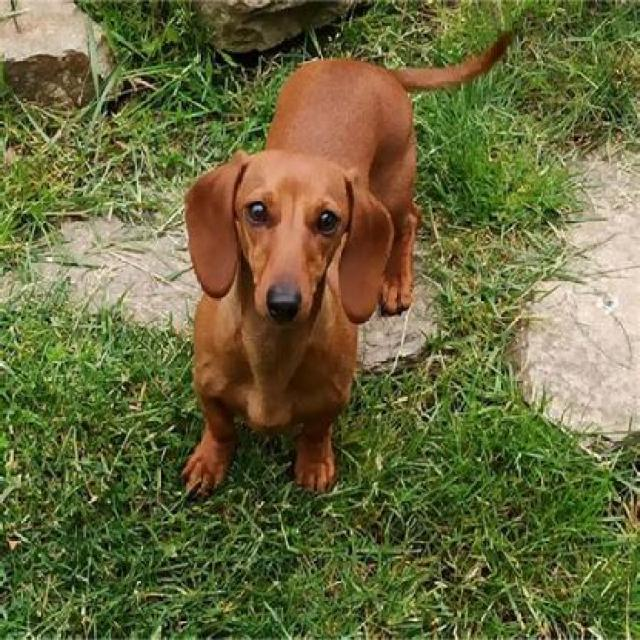Dog: (183, 42, 422, 496)
